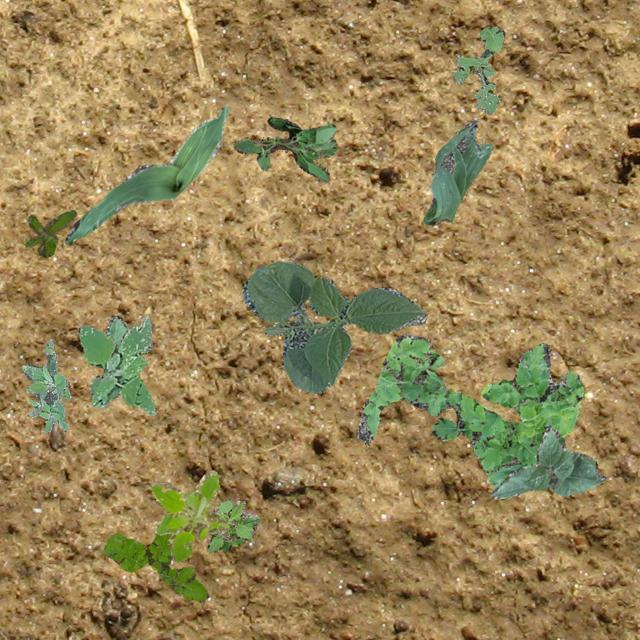crop: (242, 260, 426, 392), (64, 104, 228, 243), (490, 427, 604, 498), (422, 120, 492, 224), (89, 314, 128, 406)
weed: (354, 332, 582, 488), (78, 314, 156, 414), (102, 532, 208, 602), (148, 468, 228, 560), (232, 116, 336, 182), (20, 338, 70, 432), (452, 24, 504, 114), (207, 498, 260, 552), (24, 208, 76, 256)
